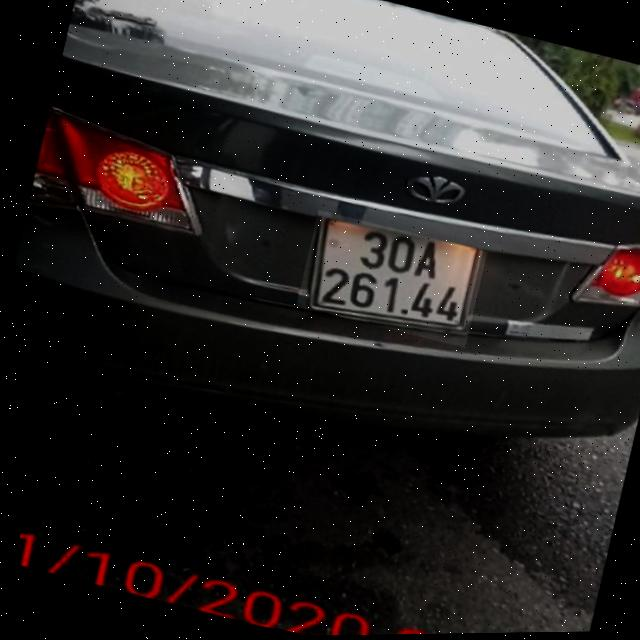car: (0, 0, 640, 537)
plate: (293, 196, 500, 350)
